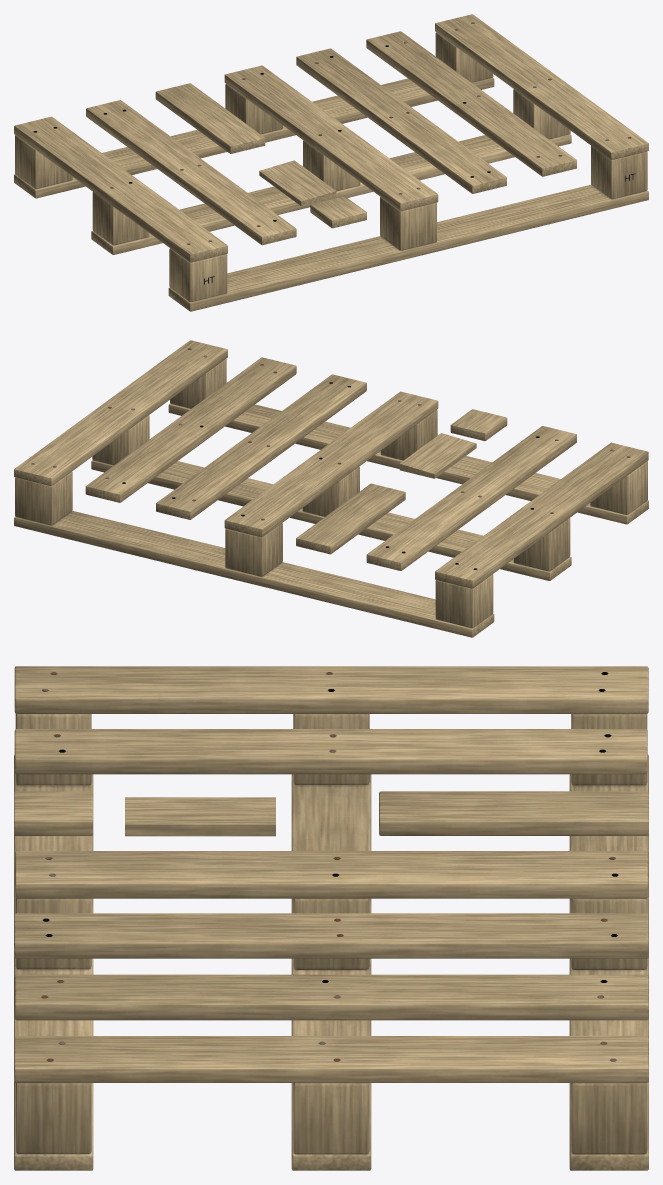
File: pallet.glb
The picture shows the model from 3 angles, top to bottom: view 1: azimuth 30°, elevation 25°; view 2: azimuth 150°, elevation 25°; view 3: azimuth 270°, elevation 25°; orthographic projection. The views are drawn at different scales.
Parts seen in each view (by area): view 1: pallet; view 2: pallet; view 3: pallet.
Boxes of the visible parts, bbox=[...] form: pallet: bbox=[14, 14, 648, 311]; pallet: bbox=[14, 340, 648, 637]; pallet: bbox=[14, 666, 648, 1170].
Bounding box in the file's own units: 1.2 × 0.1453 × 0.8.
Materials: 1 (1 with a texture image).
